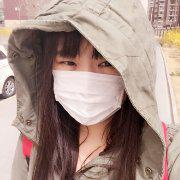OK: (51, 48, 126, 123)
